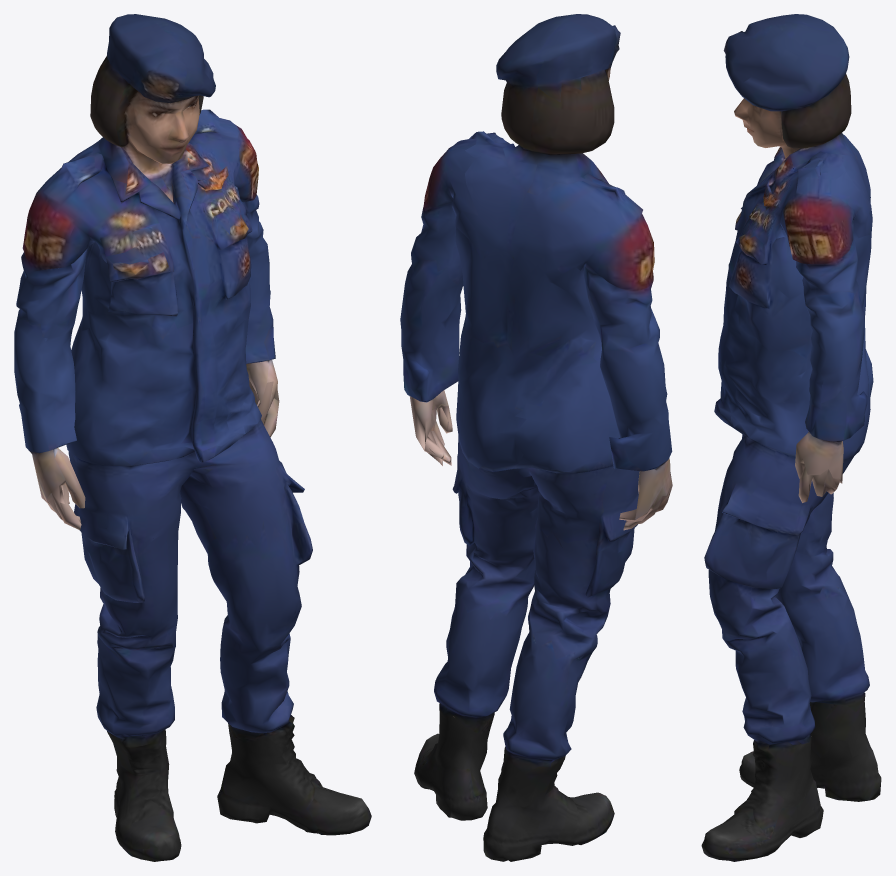
The model's file is polwan_airud_idle_non_draco.glb.
3 renders of one model, left to right at view 1: azimuth 30°, elevation 25°; view 2: azimuth 150°, elevation 25°; view 3: azimuth 270°, elevation 25°, orthographic. The views are drawn at different scales.
Parts seen in each view (by area): view 1: tripo_node_369dcfce-11a7-43f9-b8d2-20094988689a; view 2: tripo_node_369dcfce-11a7-43f9-b8d2-20094988689a; view 3: tripo_node_369dcfce-11a7-43f9-b8d2-20094988689a.
Part boxes in pixels (x1,y1,x2,y2): tripo_node_369dcfce-11a7-43f9-b8d2-20094988689a: [14, 14, 371, 861]; tripo_node_369dcfce-11a7-43f9-b8d2-20094988689a: [400, 14, 672, 861]; tripo_node_369dcfce-11a7-43f9-b8d2-20094988689a: [701, 14, 881, 861].
Size of the model in its own units: 37.28 by 98.84 by 21.11.
1 material, 1 textured.
